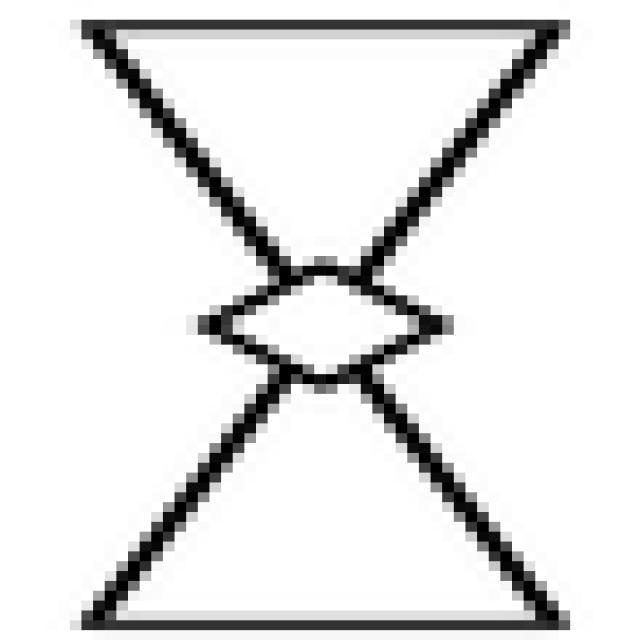Plug Valve: (84, 25, 575, 633)
